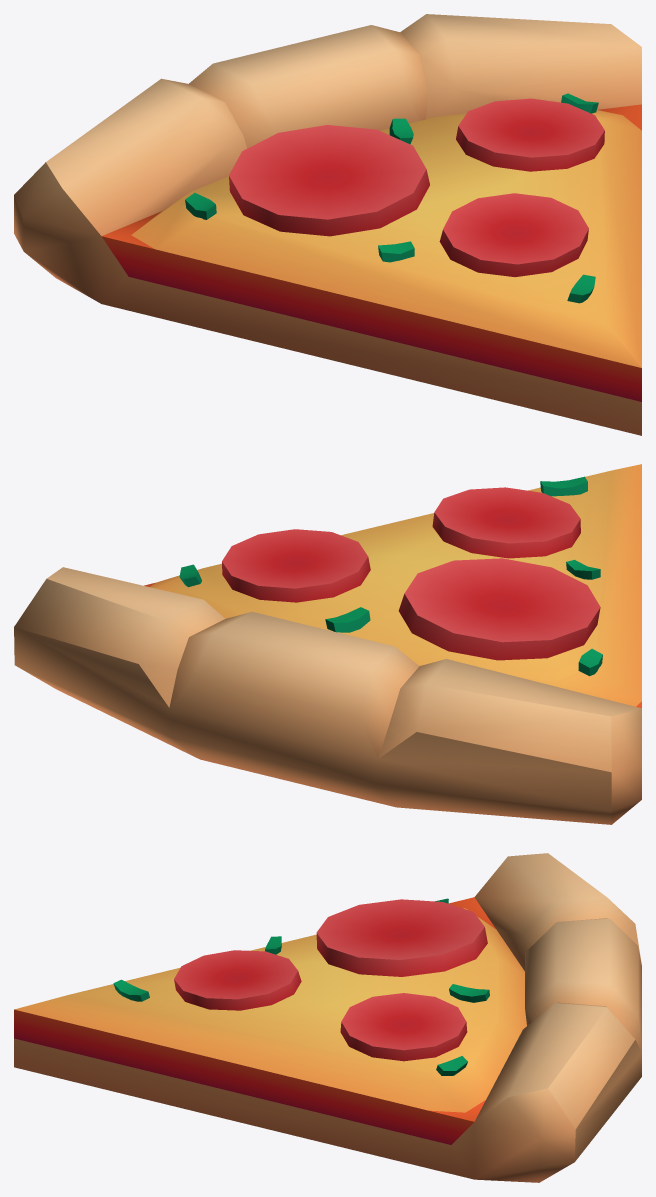
Rendered from food_pizza_pepperoni_slice.obj.
3 renders of one model, top to bottom at view 1: azimuth 30°, elevation 25°; view 2: azimuth 150°, elevation 25°; view 3: azimuth 270°, elevation 25°, orthographic. The views are drawn at different scales.
Parts seen in each view (by area): view 1: food_pizza_pepperoni_slice_Cylinder.198; view 2: food_pizza_pepperoni_slice_Cylinder.198; view 3: food_pizza_pepperoni_slice_Cylinder.198.
Boxes of the visible parts, x1,y1,x2,y2 form: food_pizza_pepperoni_slice_Cylinder.198: [14, 14, 641, 435]; food_pizza_pepperoni_slice_Cylinder.198: [14, 464, 641, 824]; food_pizza_pepperoni_slice_Cylinder.198: [14, 853, 641, 1182].
Size of the model in its own units: 0.9542 by 0.2 by 0.9848.
1 material, 1 textured.
